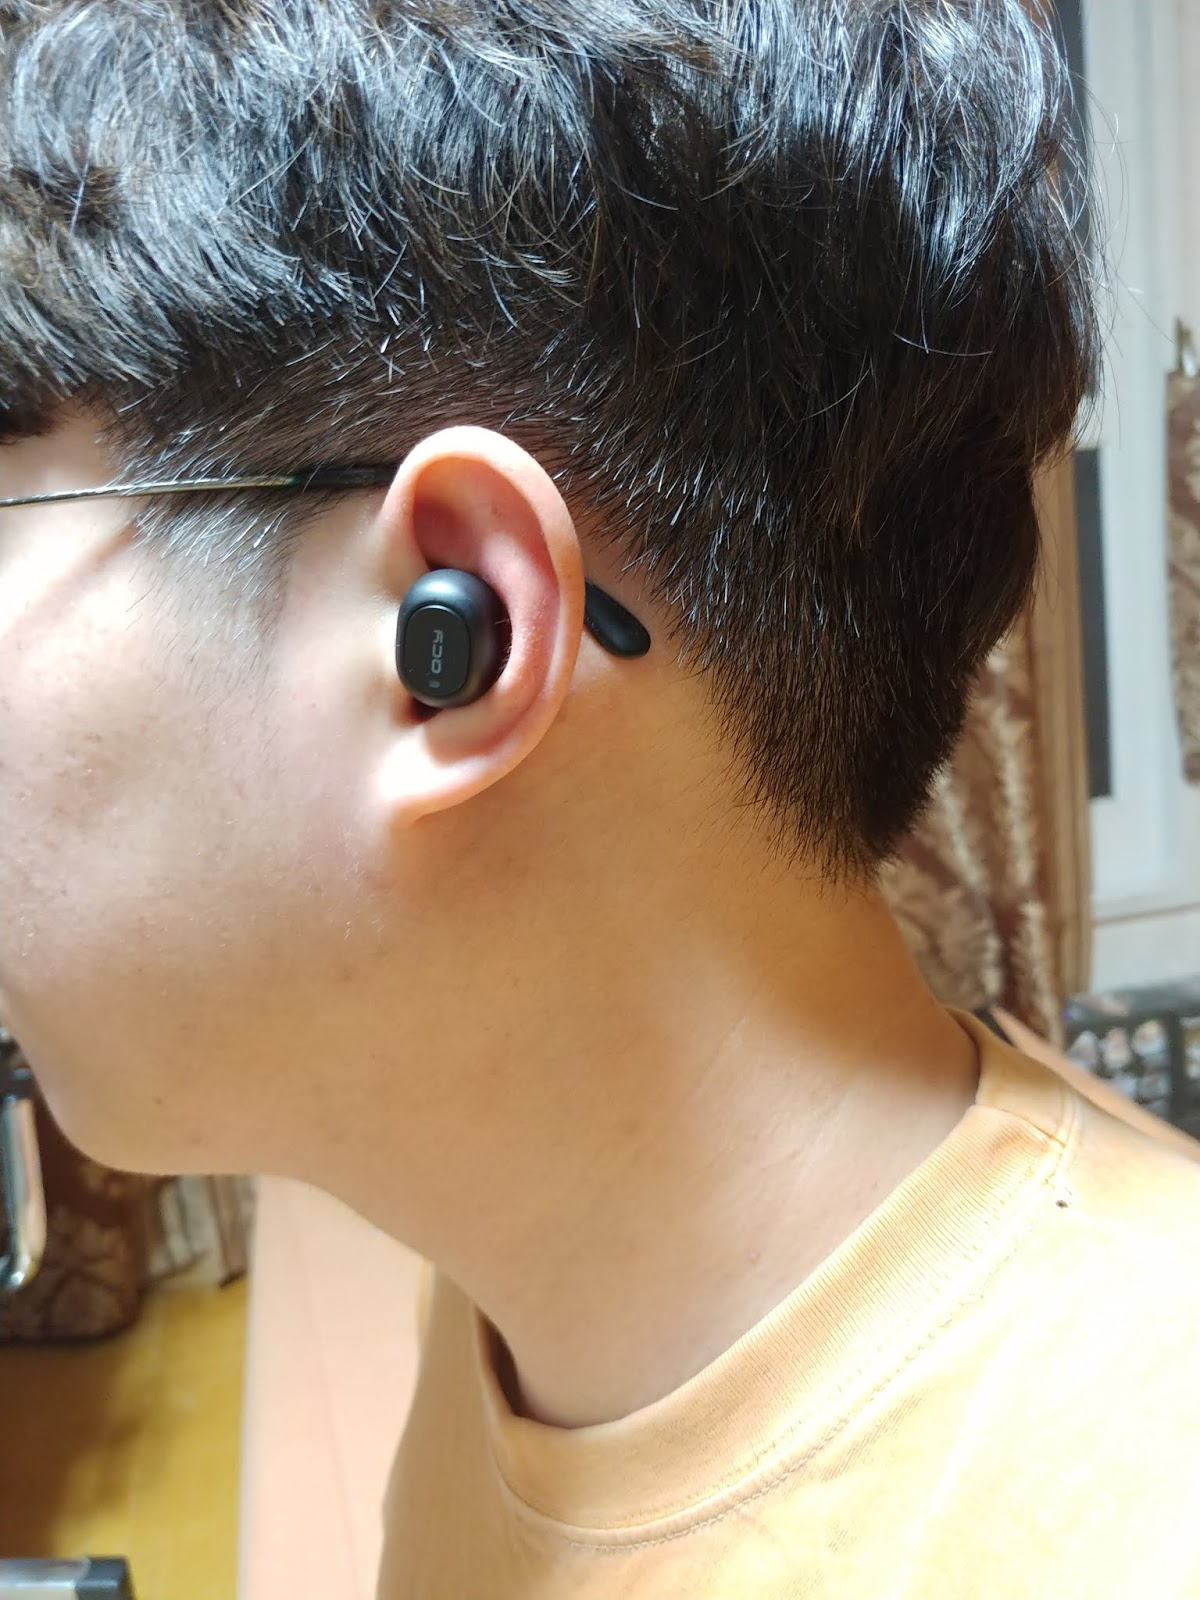earphone: (361, 426, 587, 829)
